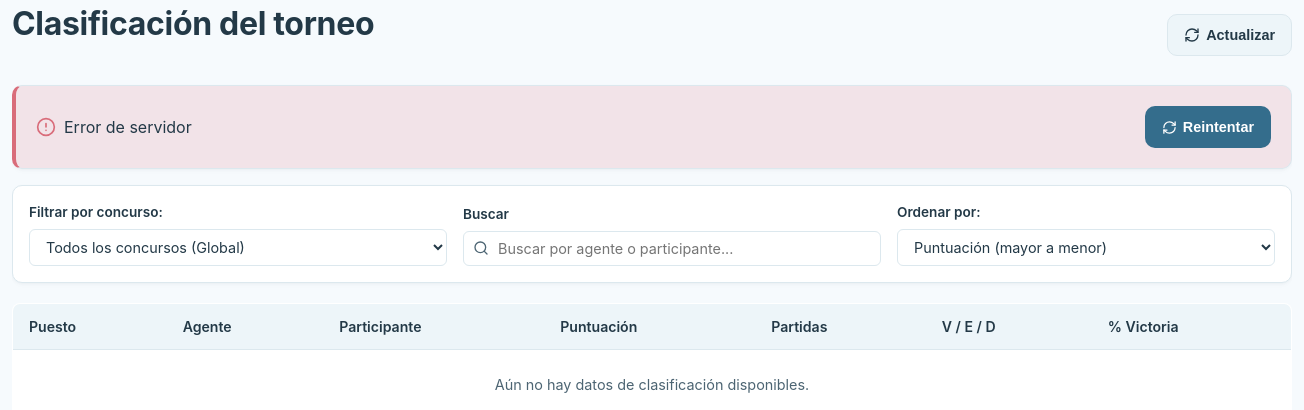
Scenario: Error States and Recovery (ADR-0009 / F0.6) › RankingsPage error handling › allows retrying after failure and loads ranking table on success
Check: the message "Error de servidor Reintentar" is shown, box [12, 85, 1292, 169]
Check: the text "Error de servidor" is shown, box [64, 115, 192, 139]
Click the button "Reintentar" at coordinates (1208, 127), box [1145, 106, 1271, 148]
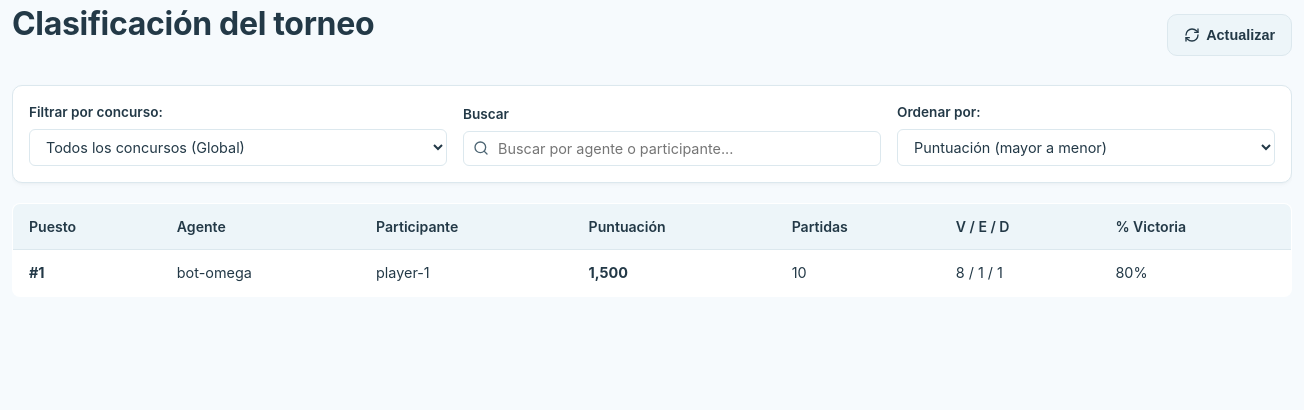
Check: the message "Error de servidor Reintentar" is gone
Check: the text "bot-omega" is shown, box [161, 249, 360, 296]
